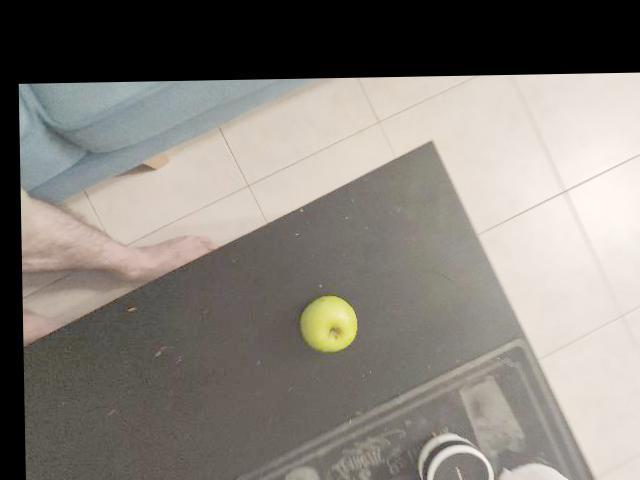apple: (386, 193, 452, 259)
